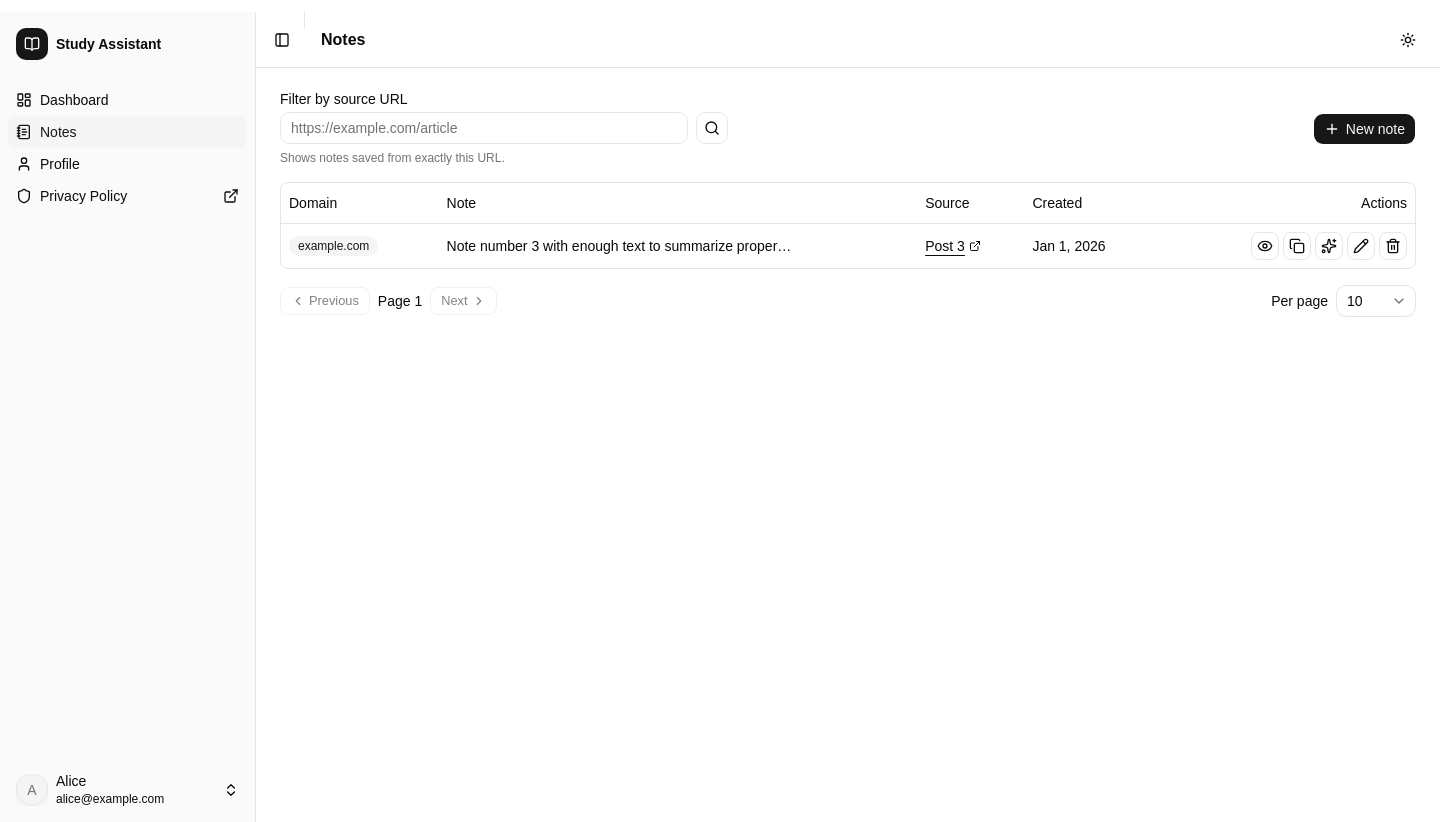
notes page › shows the rate-limit message for summarize (429)
The width and height of the screenshot is (1440, 822).
Click the button named "Generate summary" at [1329, 246], box [1315, 232, 1343, 260]
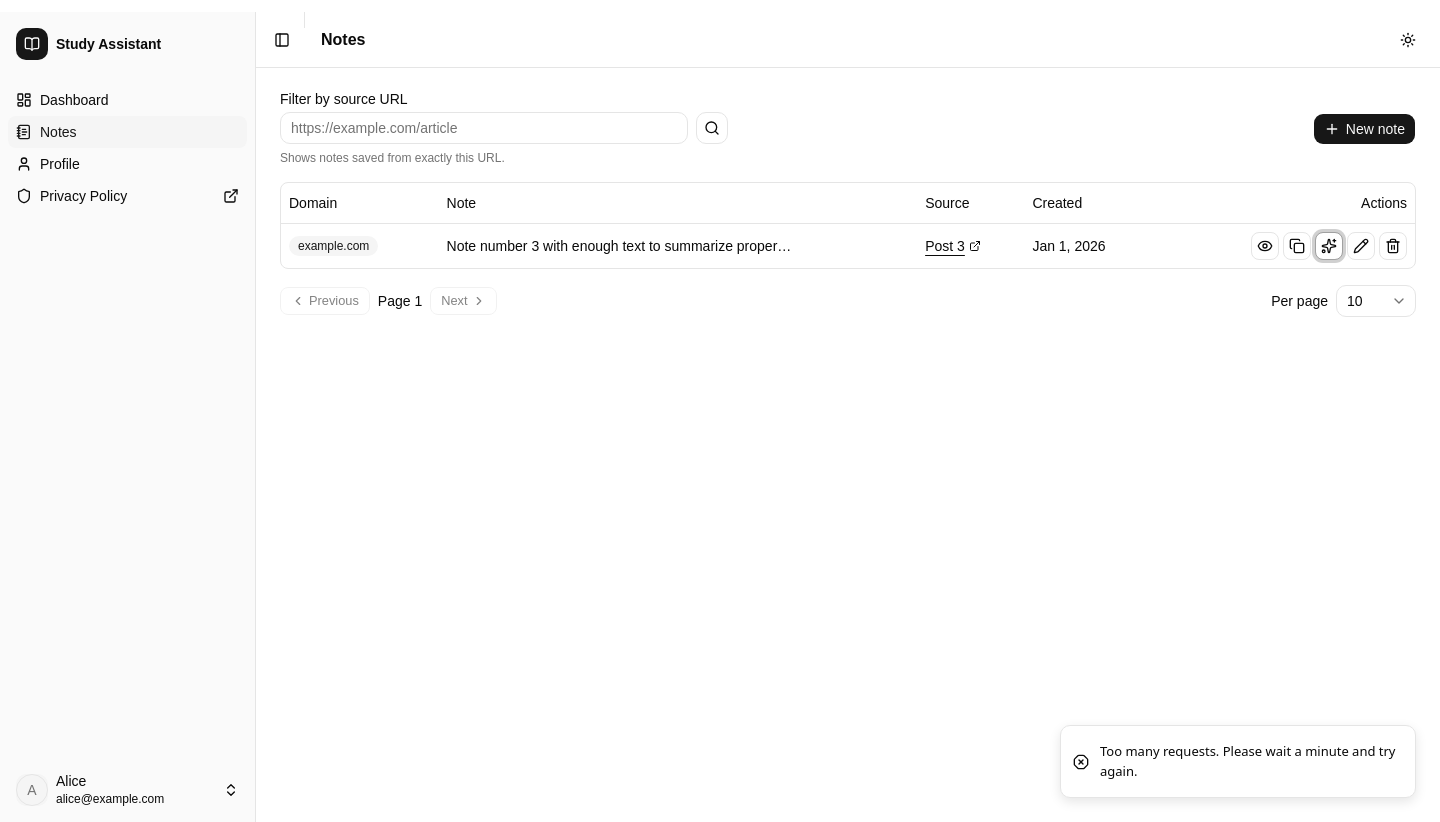
Now the text "Too many requests. Please wait a minute and try again." is shown, box [1100, 742, 1399, 781]
